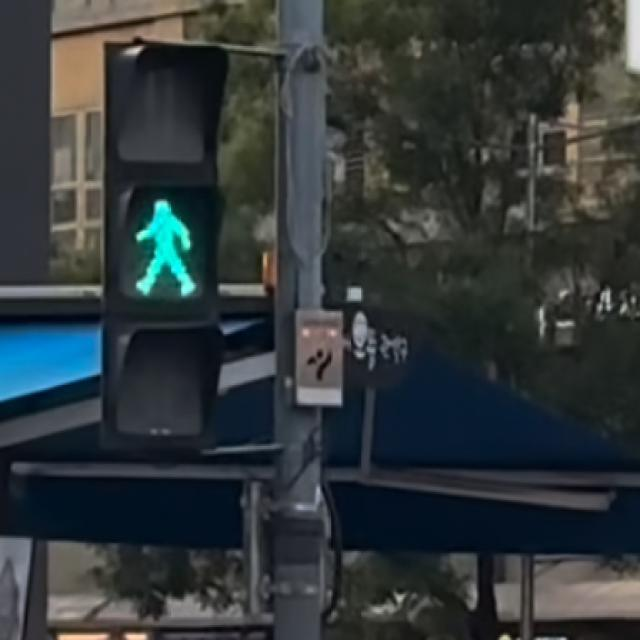geen-crossing: (108, 39, 221, 456)
